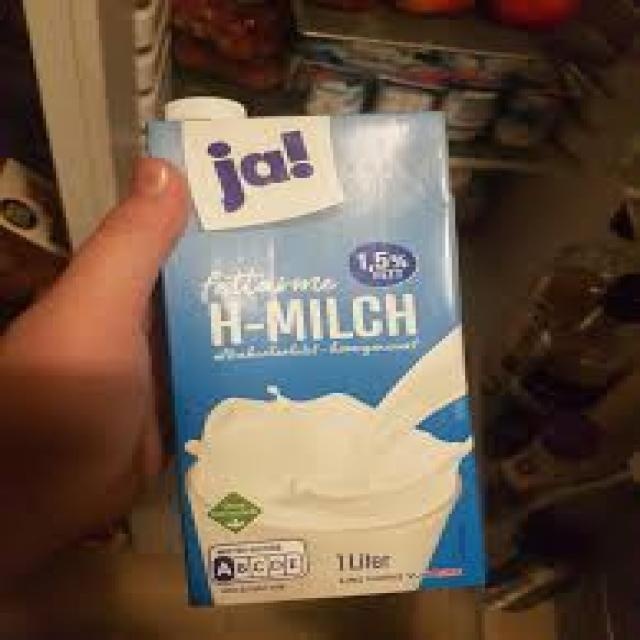cardboard: (165, 96, 479, 608)
